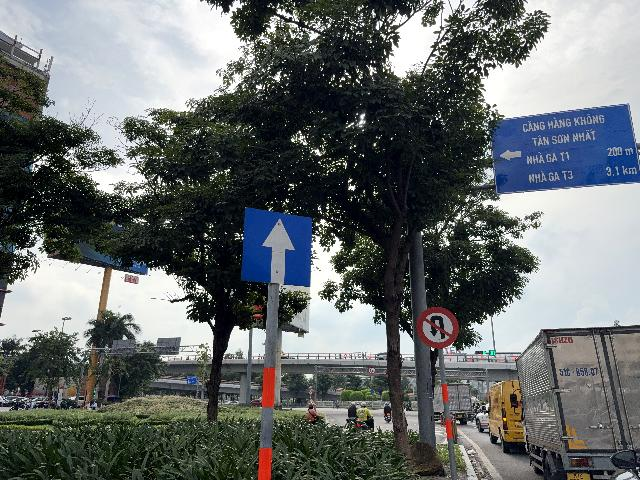cam-quay-dau-xe: (416, 307, 459, 349)
duong-mot-chieu: (241, 206, 312, 288)
